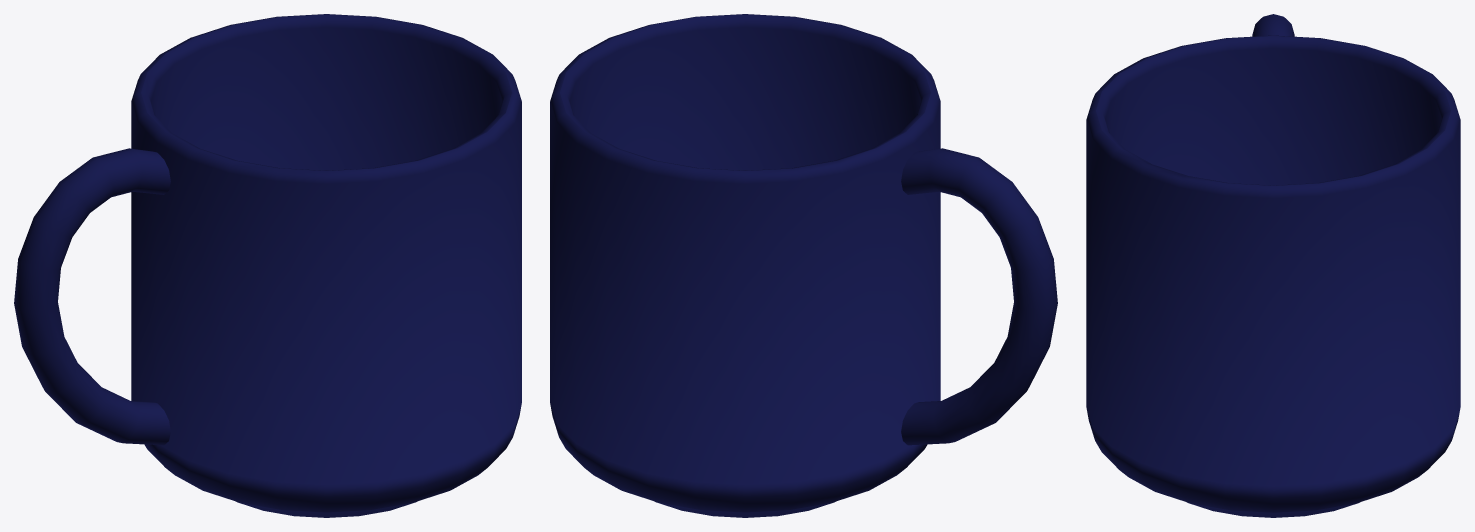
Rendered from Mug.fbx.
3 renders of one model, left to right at view 1: azimuth 30°, elevation 25°; view 2: azimuth 150°, elevation 25°; view 3: azimuth 270°, elevation 25°, orthographic. The views are drawn at different scales.
Visible parts, largest first — view 1: Cylinder; view 2: Cylinder; view 3: Cylinder.
Boxes of the visible parts, x1=… form: Cylinder: x1=14, y1=14, x2=521, y2=517; Cylinder: x1=550, y1=14, x2=1057, y2=517; Cylinder: x1=1086, y1=14, x2=1460, y2=517.
Bounding box in the file's own units: 14.15 × 10.5 × 10.
